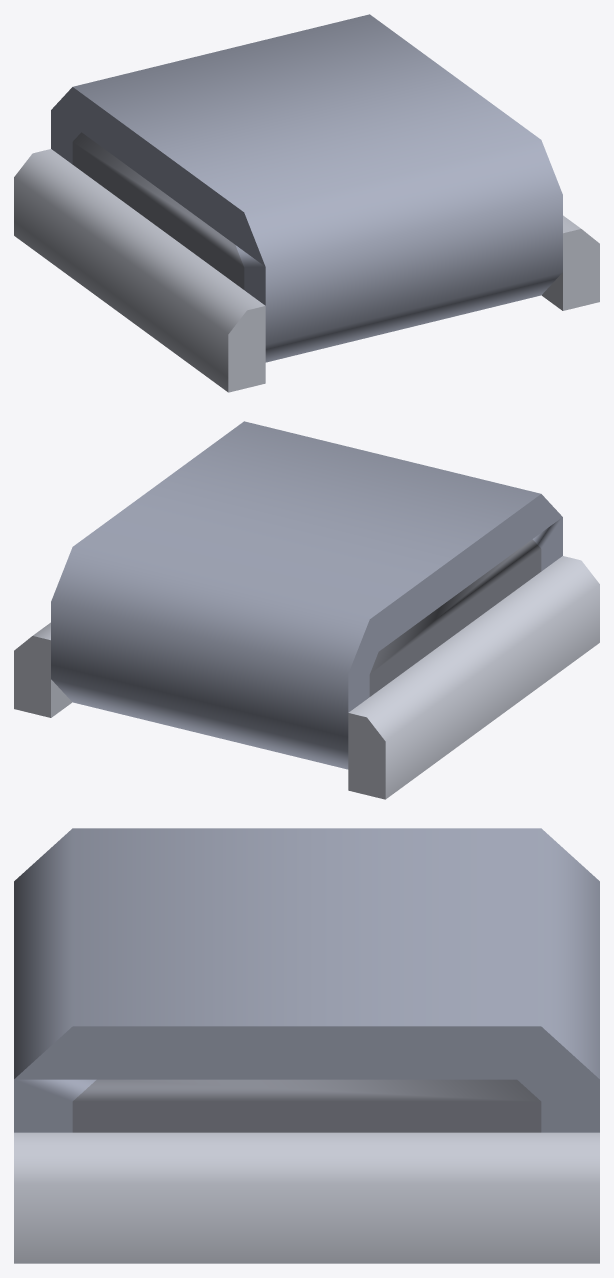
File: conveyor-sides.fbx
3 renders of one model, top to bottom at view 1: azimuth 30°, elevation 25°; view 2: azimuth 150°, elevation 25°; view 3: azimuth 270°, elevation 25°, orthographic. The views are drawn at different scales.
Visible parts, largest first — view 1: Group.019, Group.018; view 2: Group.019, Group.018; view 3: Group.019, Group.018.
Part boxes in pixels (left/top/right/bottom): Group.019: left=51, top=14, right=562, bottom=362; Group.018: left=14, top=149, right=599, bottom=392; Group.019: left=51, top=421, right=562, bottom=769; Group.018: left=14, top=556, right=599, bottom=799; Group.019: left=14, top=828, right=599, bottom=1132; Group.018: left=14, top=1132, right=599, bottom=1263.
Bounding box in the file's own units: 100 × 40 × 100.
